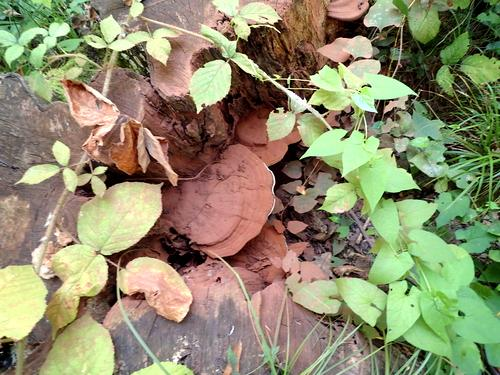Ganoderma - Fruit Body: (174, 144, 275, 259), (324, 0, 372, 21)
